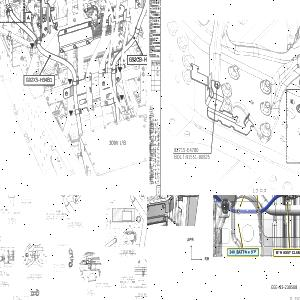PartNumber: (173, 146, 200, 153), (26, 76, 52, 83), (186, 154, 210, 160), (128, 56, 147, 63), (95, 282, 108, 285), (120, 276, 133, 279), (53, 263, 66, 265)
